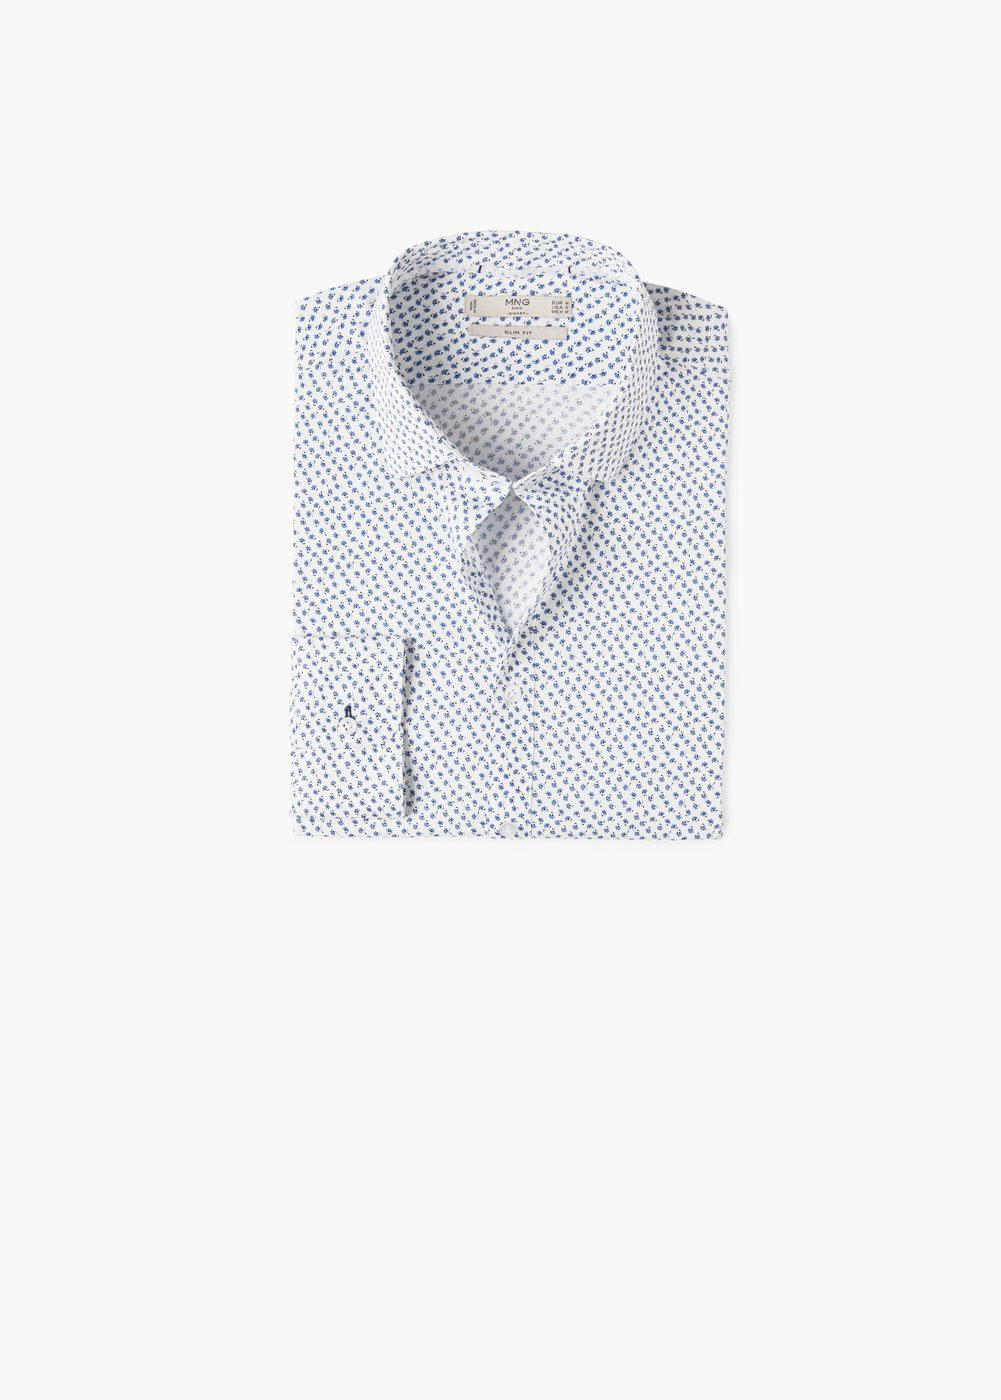teeshirt: (231, 223, 750, 906)
